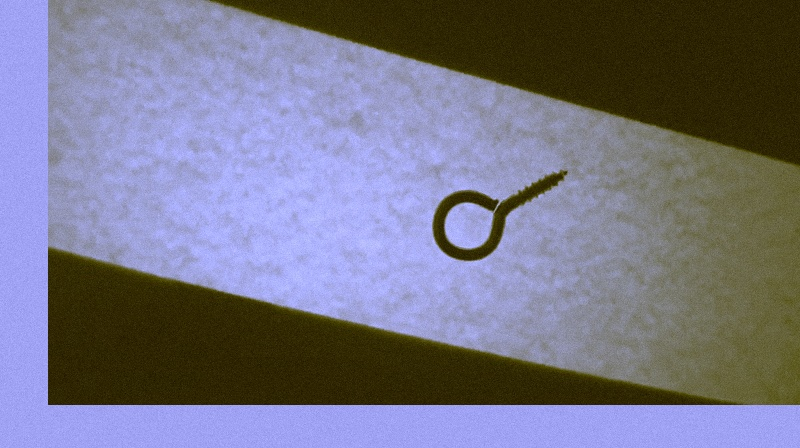O001: (427, 167, 570, 262)
